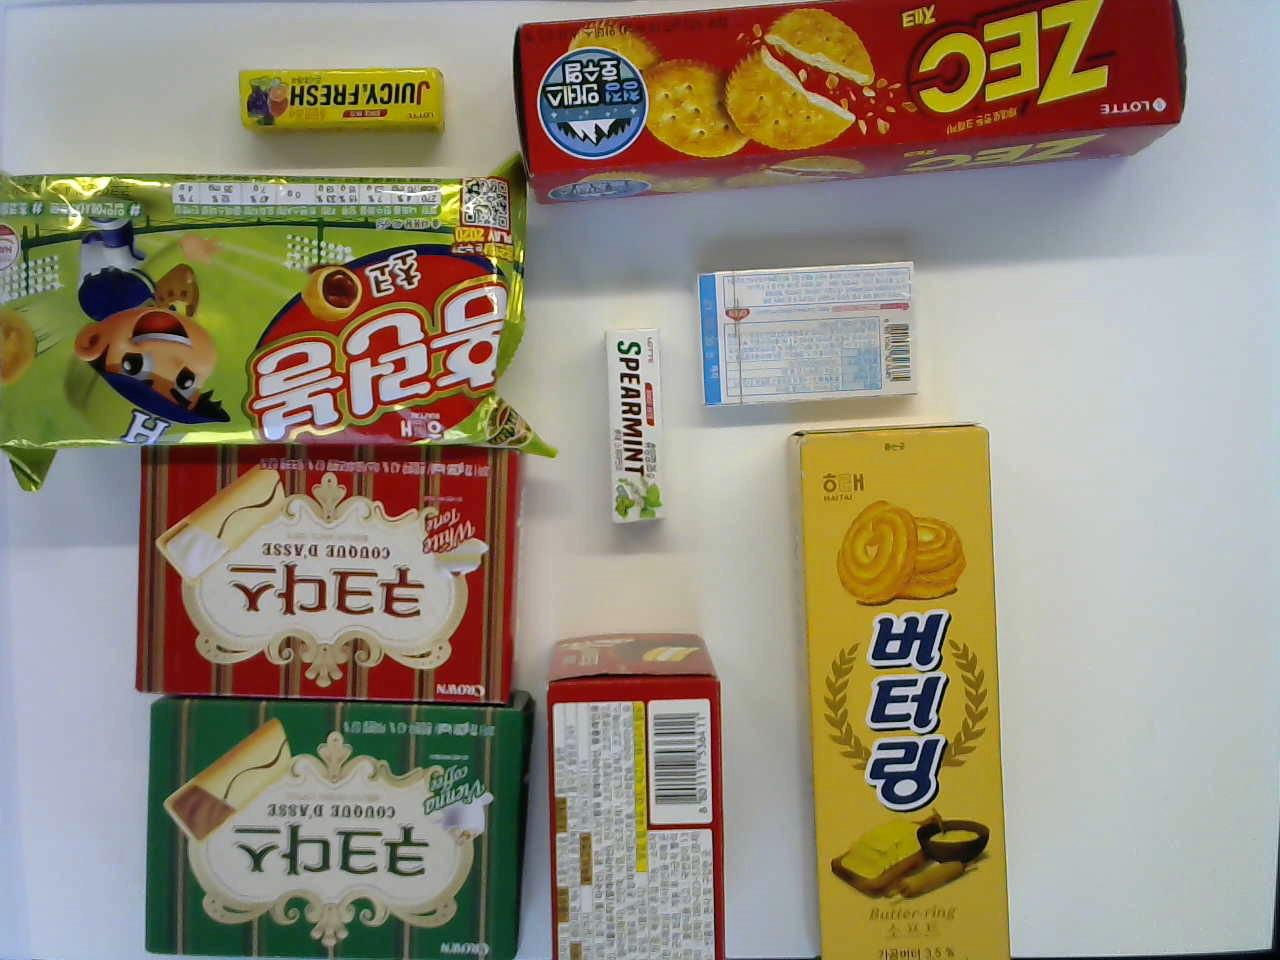ID_gum: (692, 253, 921, 409)
buttering: (786, 419, 1014, 959)
chocopie: (542, 630, 731, 959)
couque_coffee: (136, 700, 523, 959)
couque_white: (125, 441, 529, 690)
homerunball: (2, 170, 541, 445)
juicyfresh: (231, 61, 450, 132)
spearmint: (596, 324, 676, 524)
zec: (510, 7, 1184, 195)
